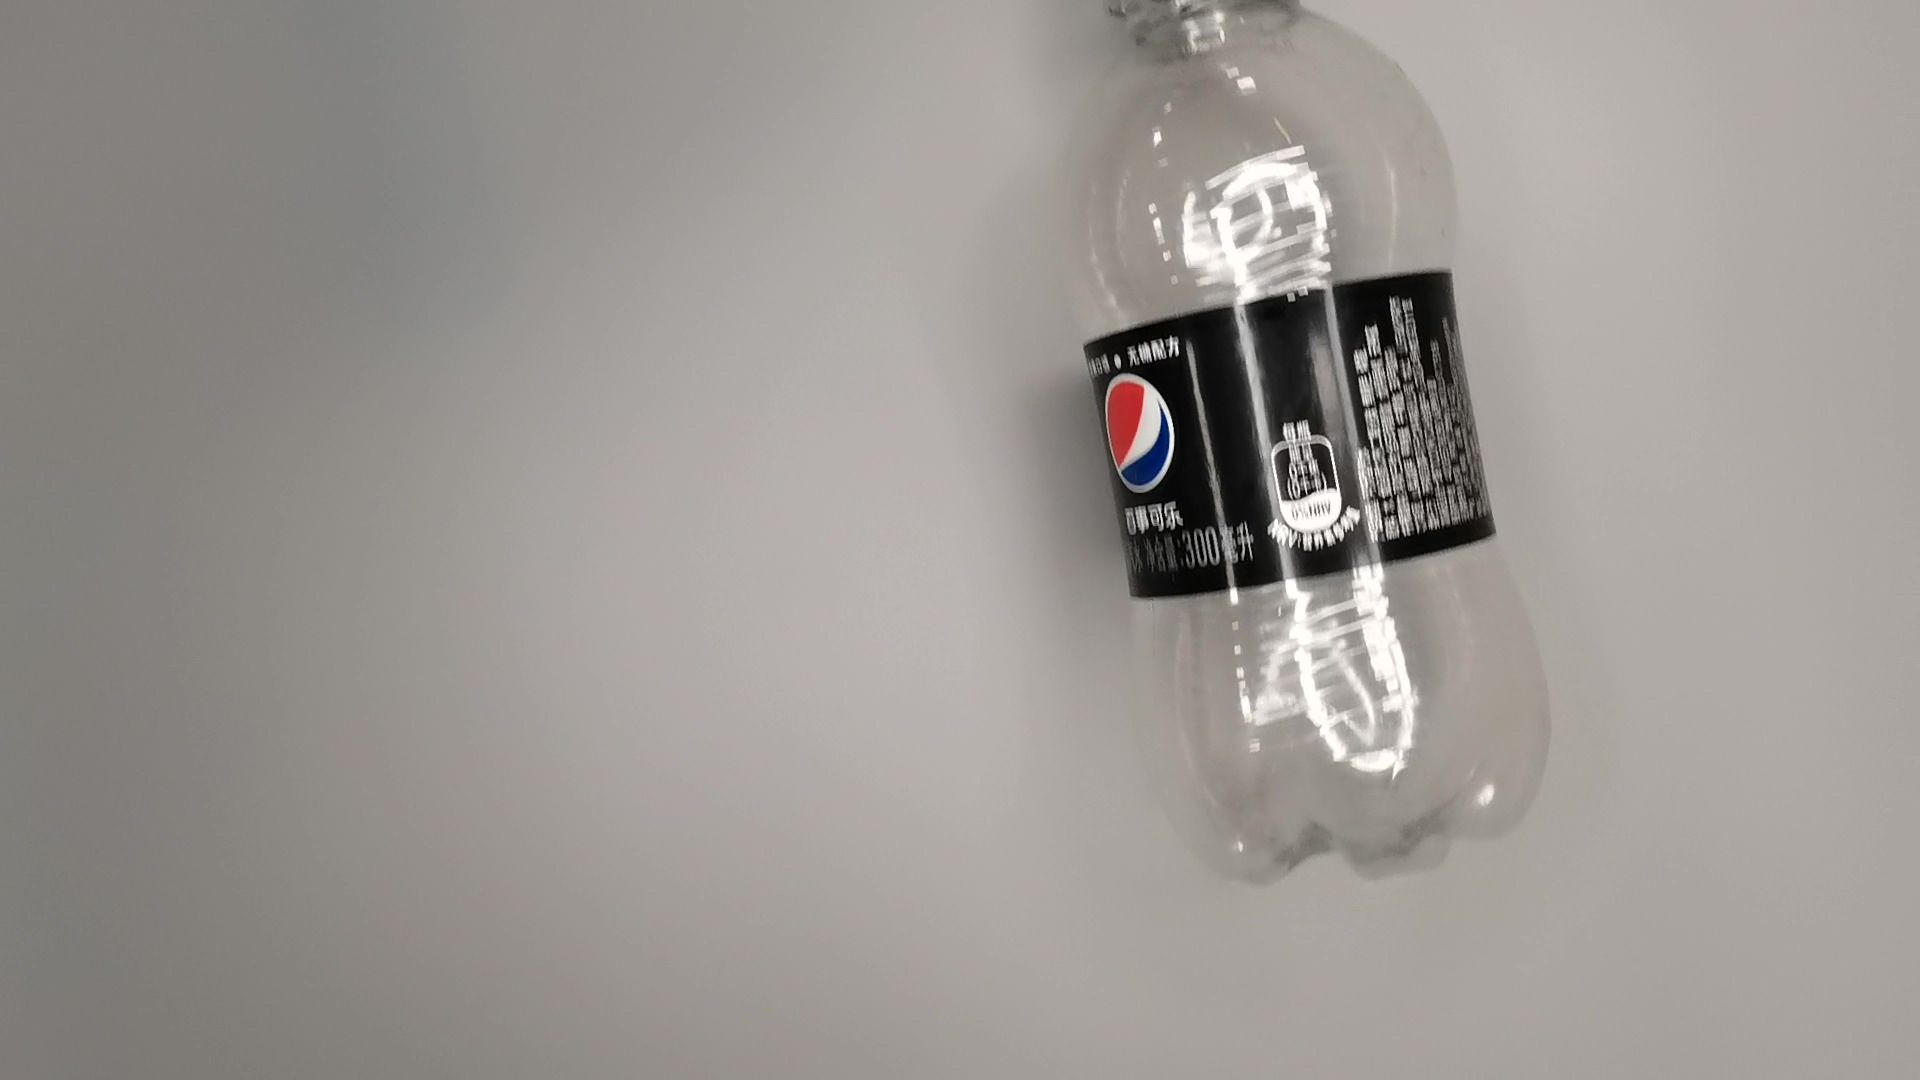bottle: (1058, 1, 1559, 890)
